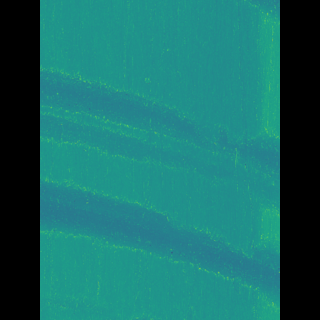Loch: (69, 62, 250, 210), (69, 175, 250, 305)
